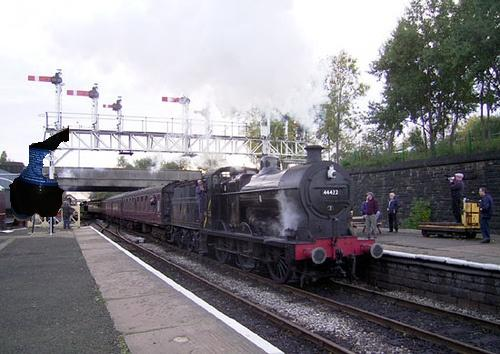tampered: (10, 127, 69, 221)
